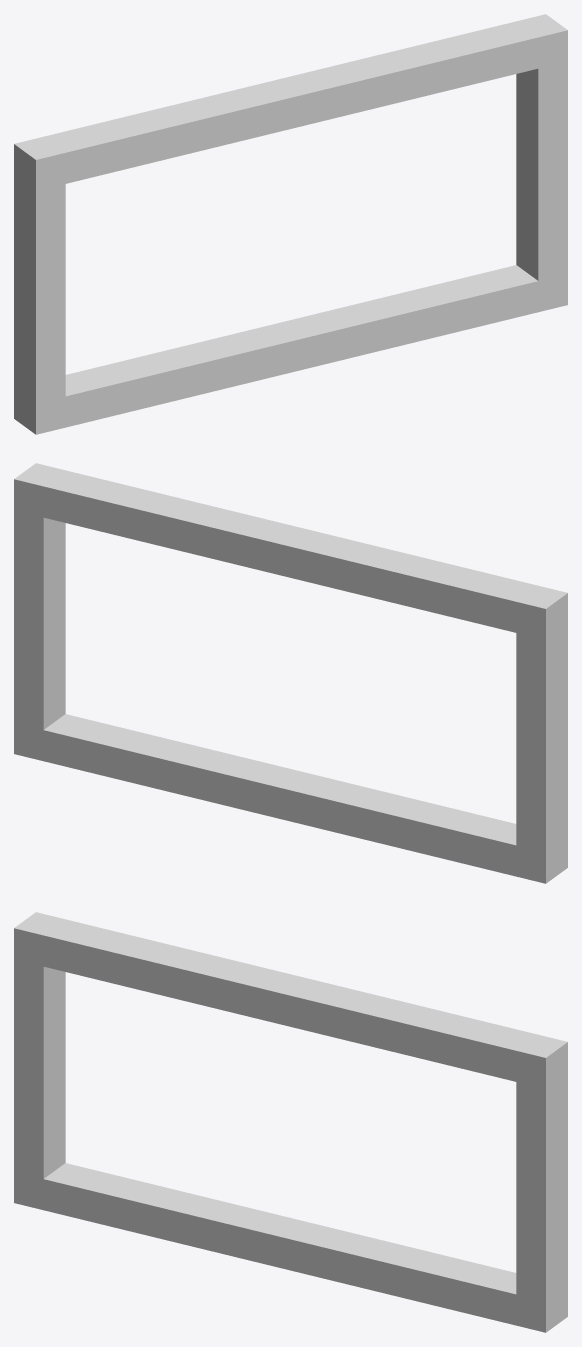
File: Window3_04_2.fbx
3 views of the same model, one above another, from view 1: azimuth 30°, elevation 25°; view 2: azimuth 150°, elevation 25°; view 3: azimuth 330°, elevation 25° (orthographic).
Parts seen in each view (by area): view 1: Window3_04_2; view 2: Window3_04_2; view 3: Window3_04_2.
Boxes of the visible parts, bbox=[...] form: Window3_04_2: bbox=[14, 14, 567, 434]; Window3_04_2: bbox=[14, 463, 567, 883]; Window3_04_2: bbox=[14, 912, 567, 1332].
Bounding box in the file's own units: 80.38 × 39.68 × 5.76.
